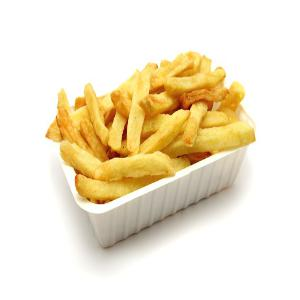fries: (41, 51, 254, 206)
